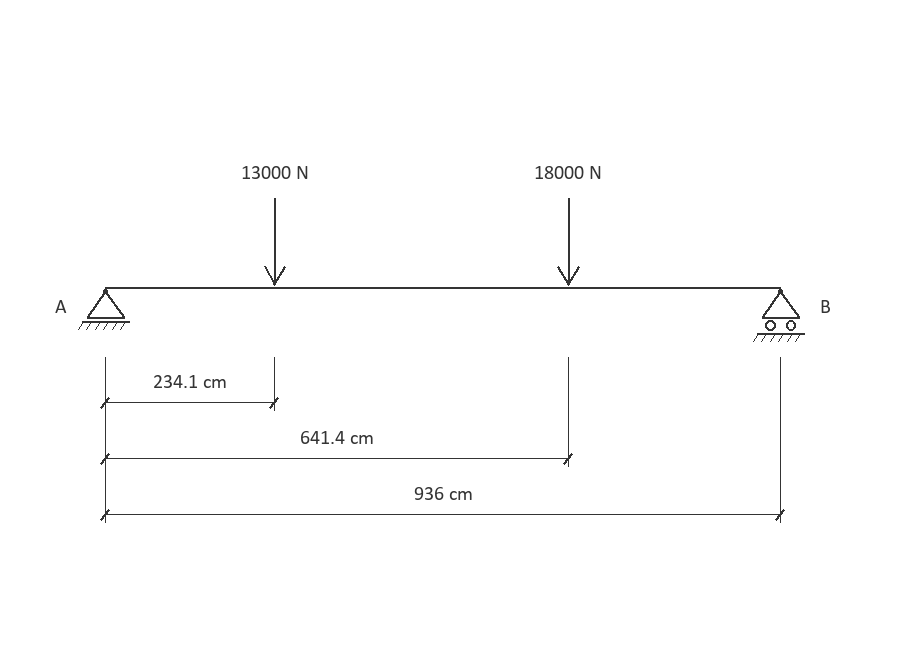pin_support: (78, 289, 130, 330)
point_load: (557, 198, 580, 286), (264, 198, 286, 286)
roller_support: (753, 289, 805, 342)
